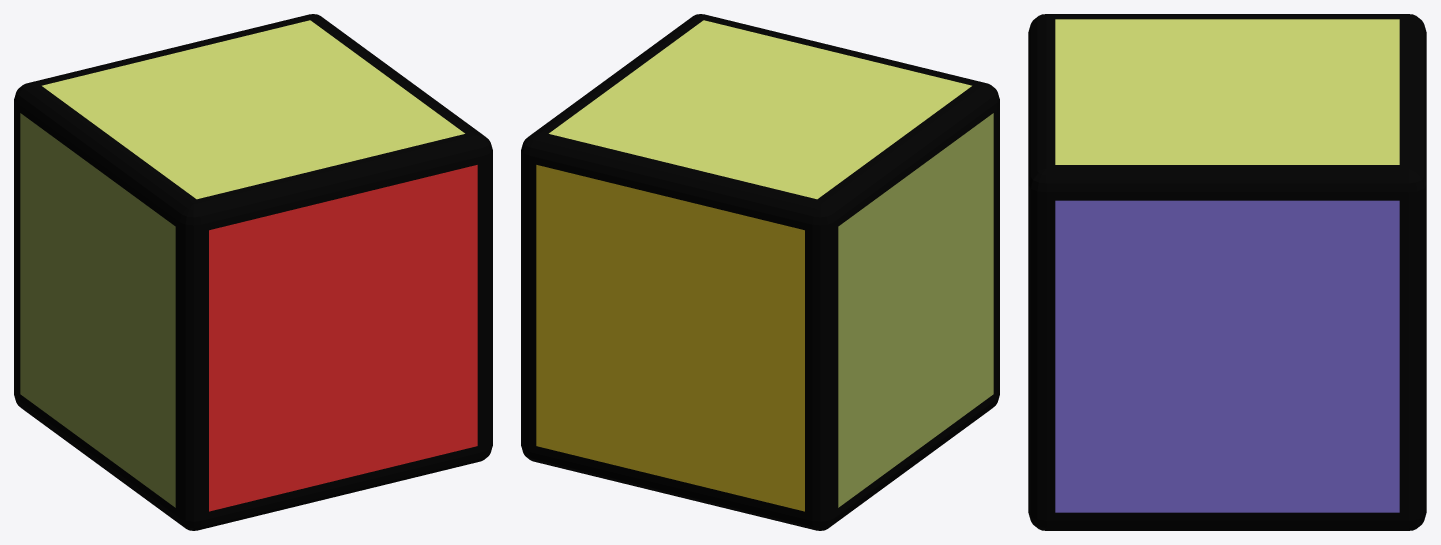
File: piece.gltf
3 renders of one model, left to right at view 1: azimuth 30°, elevation 25°; view 2: azimuth 150°, elevation 25°; view 3: azimuth 270°, elevation 25°, orthographic. The views are drawn at different scales.
Visible parts, largest first — view 1: Cube-Mat.5, Cube-Mat.1, Cube-Mat.2, Cube-Mat.3; view 2: Cube-Mat.6, Cube-Mat.1, Cube-Mat.2, Cube-Mat.3; view 3: Cube-Mat, Cube-Mat.3, Cube-Mat.1.
Part boxes in pixels (x1,y1,x2,y2): Cube-Mat.5: (209,165,477,511); Cube-Mat.1: (14,14,492,530); Cube-Mat.2: (20,113,175,507); Cube-Mat.3: (42,20,464,199); Cube-Mat.6: (536,165,804,511); Cube-Mat.1: (521,14,999,530); Cube-Mat.2: (838,113,993,507); Cube-Mat.3: (549,20,971,199); Cube-Mat: (1055,200,1399,512); Cube-Mat.3: (1055,19,1399,164); Cube-Mat.1: (1028,14,1426,530).
Size of the model in its own units: 2 by 2 by 2.
